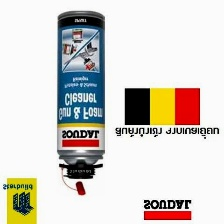aerosol_cans: (53, 7, 109, 200)
